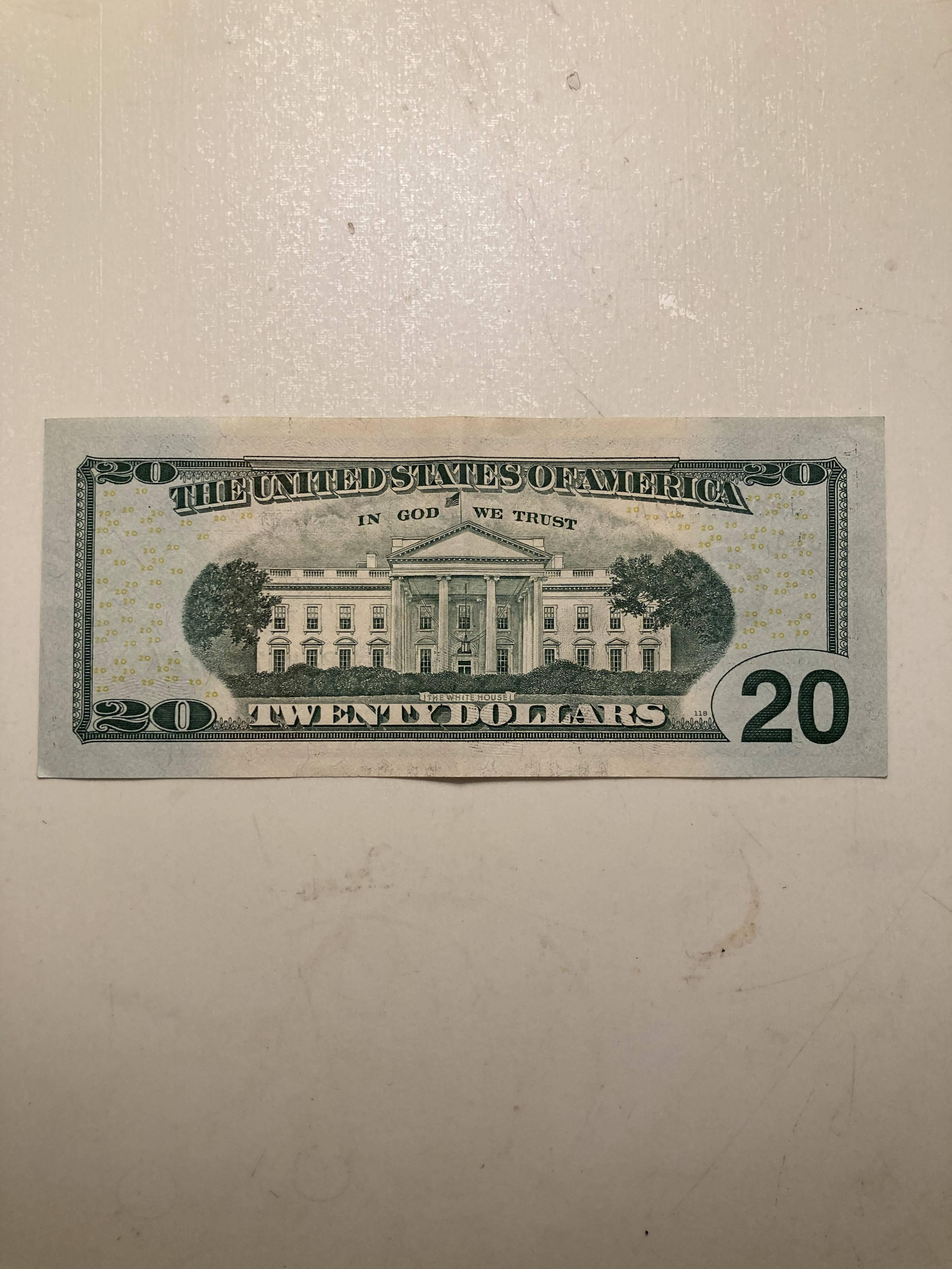twenty-back: (32, 412, 888, 783)
